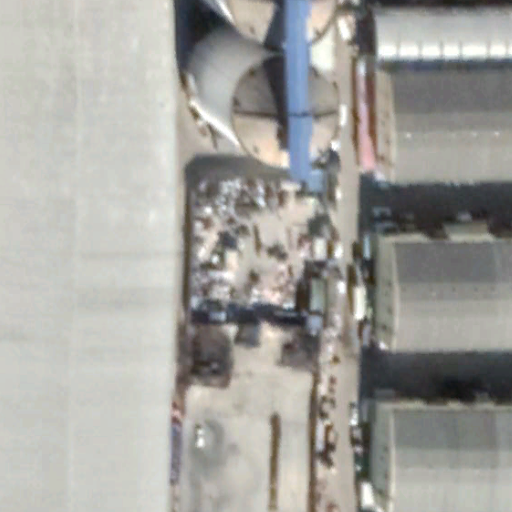msw: (189, 177, 310, 319)
